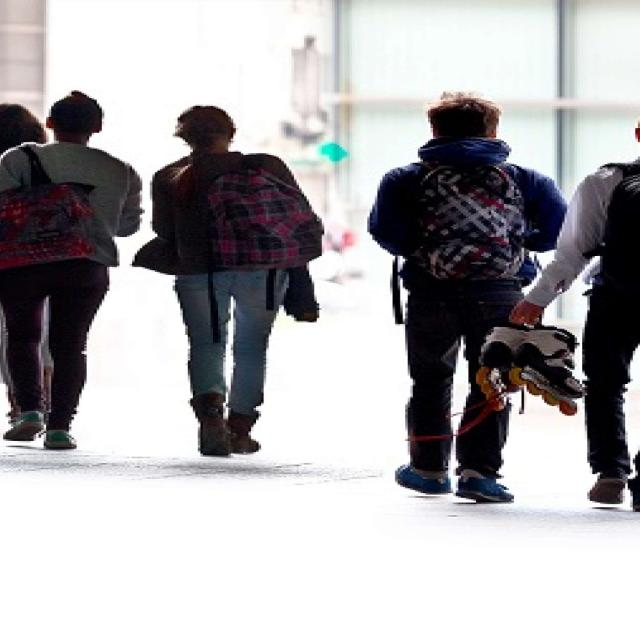body: (361, 87, 569, 508), (125, 100, 332, 463), (468, 117, 640, 508), (0, 85, 146, 454), (0, 98, 89, 433)
